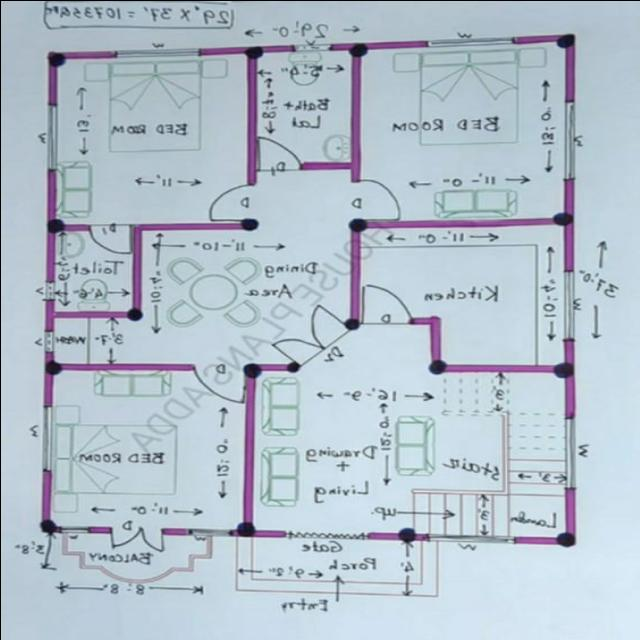column: (553, 28, 583, 50), (341, 36, 368, 60), (544, 209, 578, 228), (552, 358, 580, 379), (236, 41, 265, 61), (42, 46, 68, 68), (38, 214, 66, 234), (235, 214, 263, 234), (34, 516, 62, 536), (394, 525, 419, 547), (423, 356, 450, 376), (36, 358, 63, 378), (336, 311, 364, 330), (554, 530, 582, 548), (231, 521, 260, 538), (342, 215, 370, 232), (241, 361, 266, 378), (125, 304, 146, 321)
